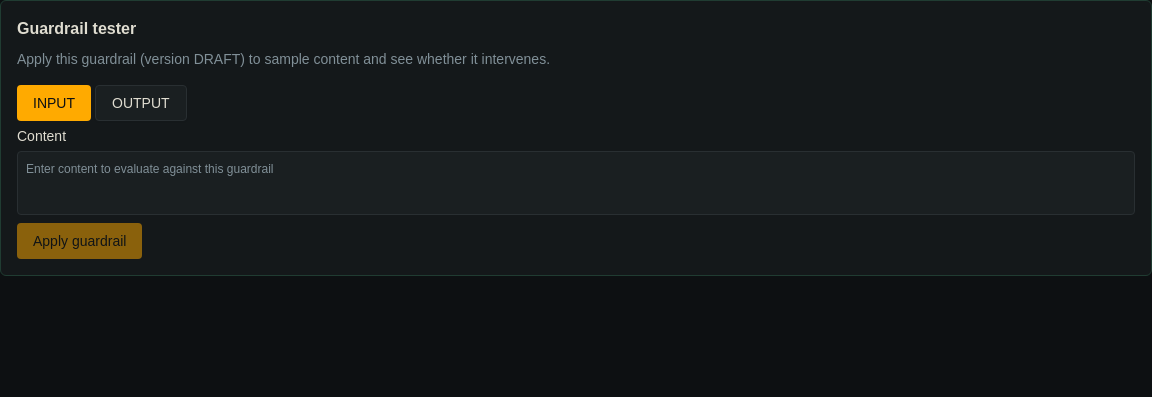
Test: GuardrailTester › renders a pass-through result with no intervention
In the text box labelled "Content": (576, 183) top-left (17, 151), bottom-right (1135, 215), type "What is the weather today?"
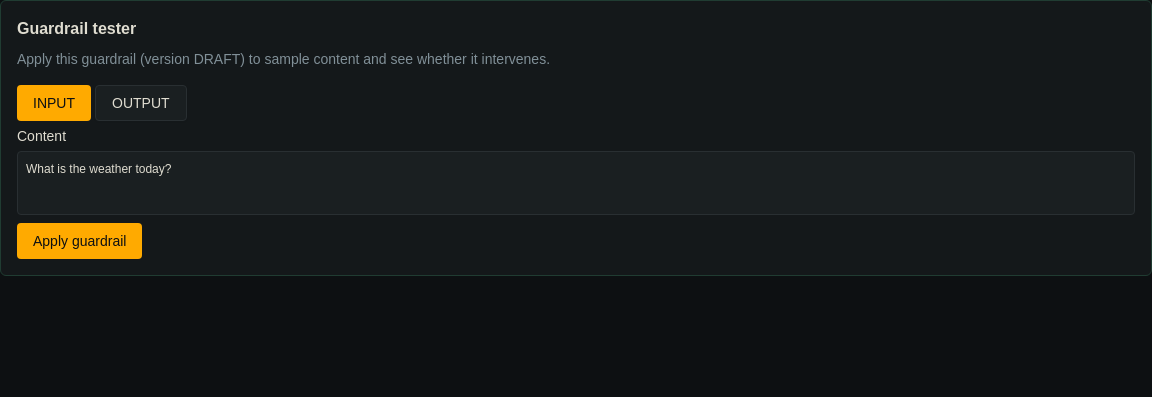
Click the button "Apply guardrail": (80, 241) top-left (17, 223), bottom-right (142, 259)
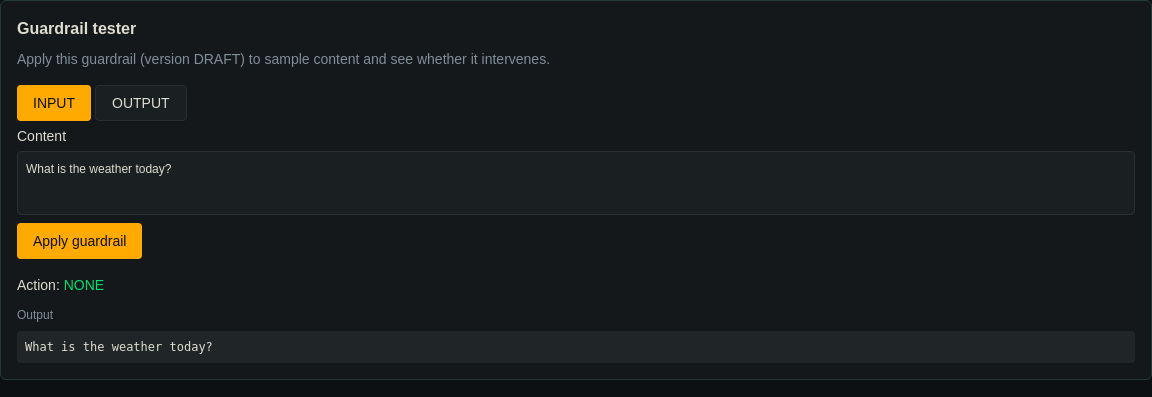
Expected: the text "What is the weather today?" is shown, top-left (17, 331), bottom-right (1135, 363)
